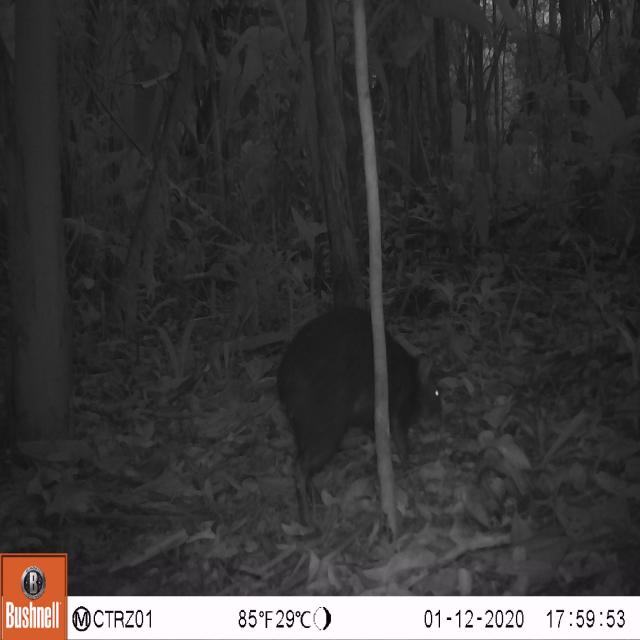Black Agouti: (233, 283, 462, 528)
